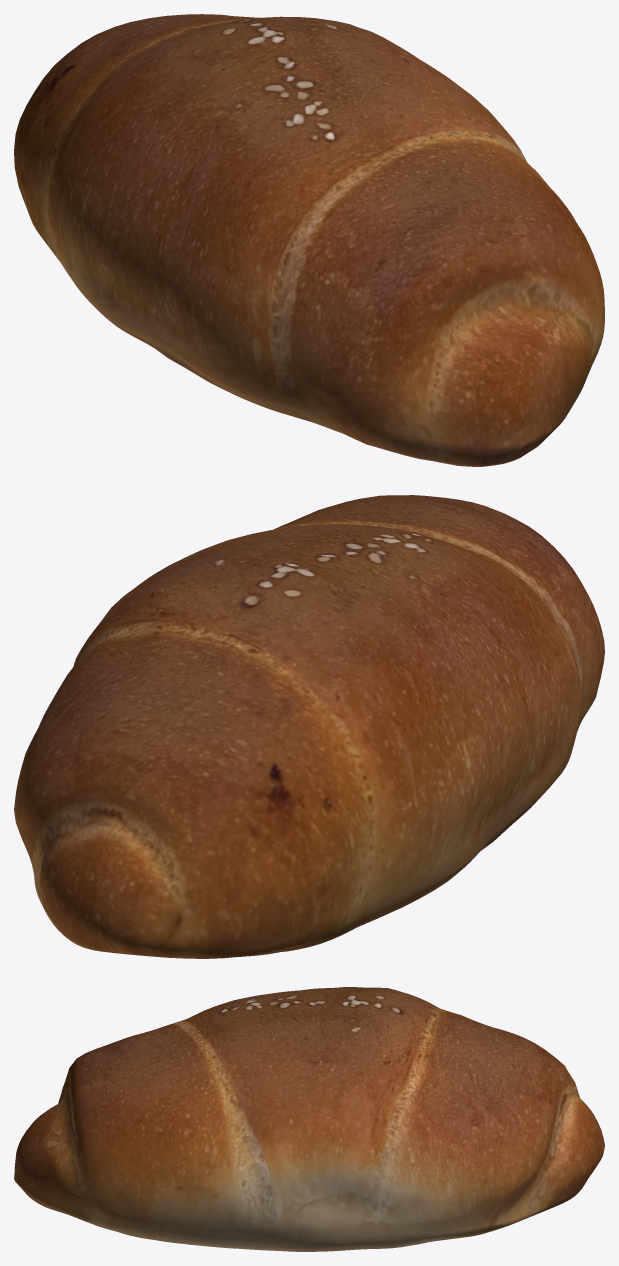
The model's file is siobread.glb.
The picture shows the model from 3 angles, top to bottom: view 1: azimuth 30°, elevation 25°; view 2: azimuth 150°, elevation 25°; view 3: azimuth 270°, elevation 25°; orthographic projection. The views are drawn at different scales.
Parts seen in each view (by area): view 1: Object_2; view 2: Object_2; view 3: Object_2.
Boxes of the visible parts, x1,y1,x2,y2 form: Object_2: (14,14,604,466); Object_2: (14,495,604,958); Object_2: (14,987,604,1251).
Size of the model in its own units: 0.3401 by 0.2256 by 0.6271.
Materials: 1 (1 with a texture image).
